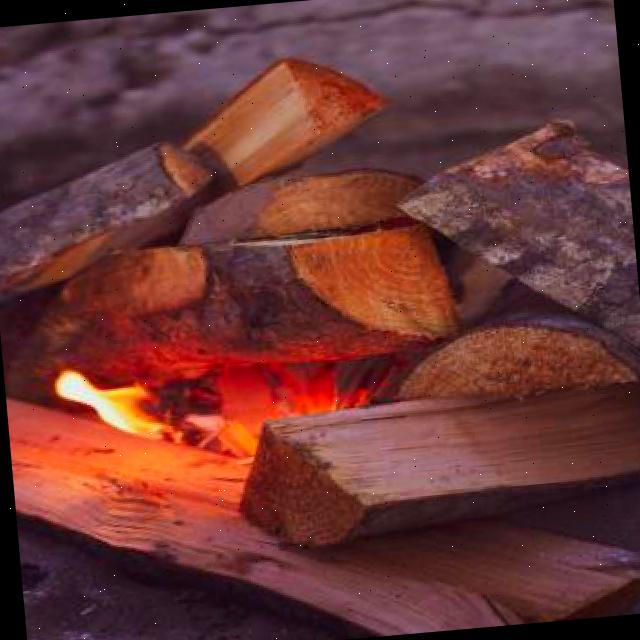fire: (18, 336, 217, 466)
